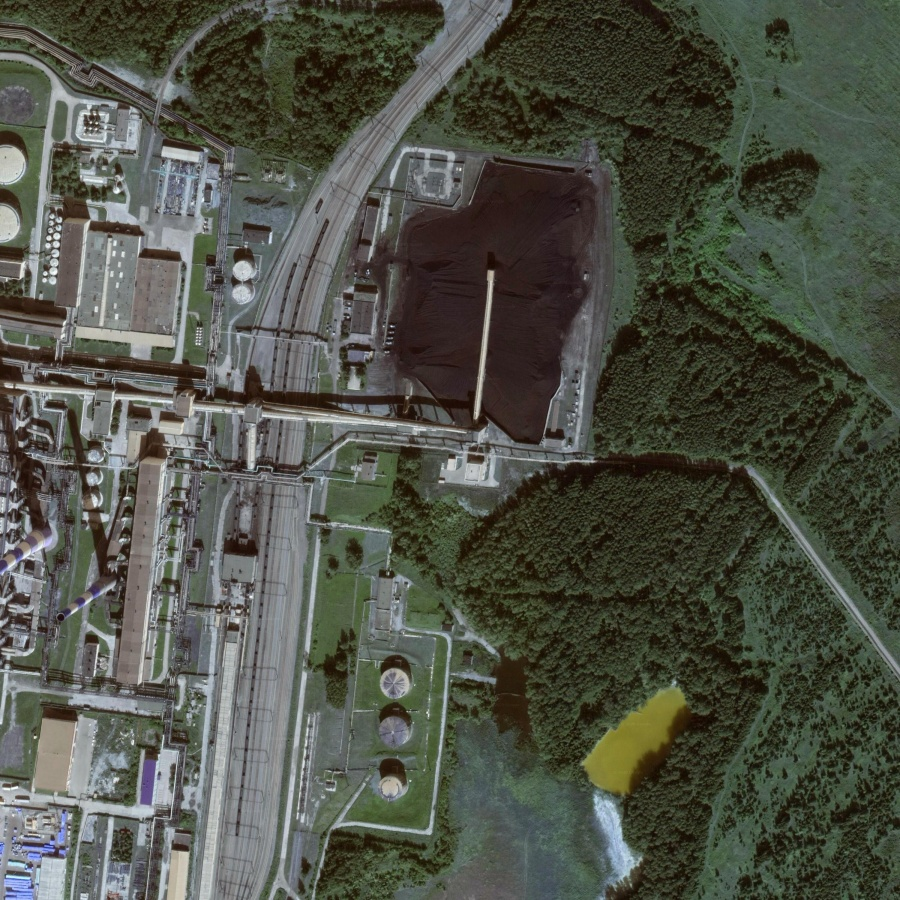PowerPlant: (327, 140, 597, 454), (301, 641, 449, 816)
